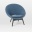chair: (4, 3, 32, 30)
